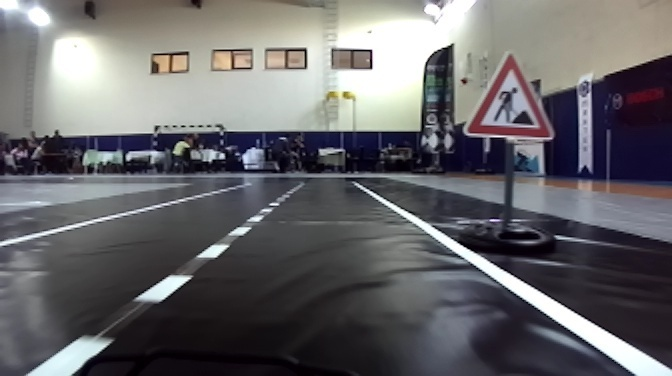yol_yapimi: (457, 46, 564, 144)
